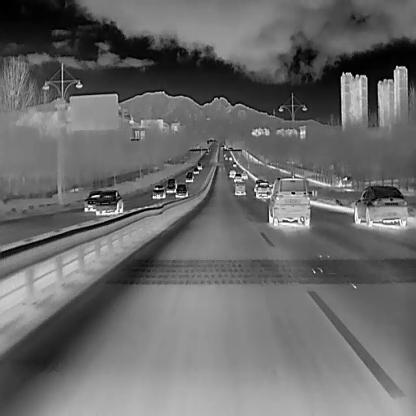car: (353, 185, 408, 227), (267, 177, 310, 226), (95, 189, 123, 215), (83, 189, 100, 212), (255, 181, 271, 198), (151, 185, 166, 199), (233, 180, 246, 196), (175, 184, 188, 197), (166, 182, 176, 193), (239, 170, 248, 180), (233, 172, 241, 181), (228, 168, 236, 177), (185, 175, 193, 182), (193, 167, 199, 174), (196, 162, 202, 169), (232, 161, 237, 166), (228, 155, 232, 160), (224, 155, 228, 160), (222, 153, 226, 156), (205, 151, 208, 154), (208, 147, 211, 150)
